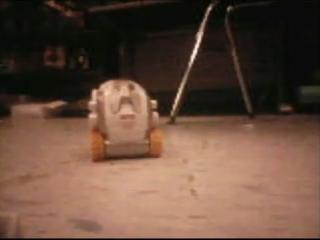cozmo: (86, 77, 164, 162)
